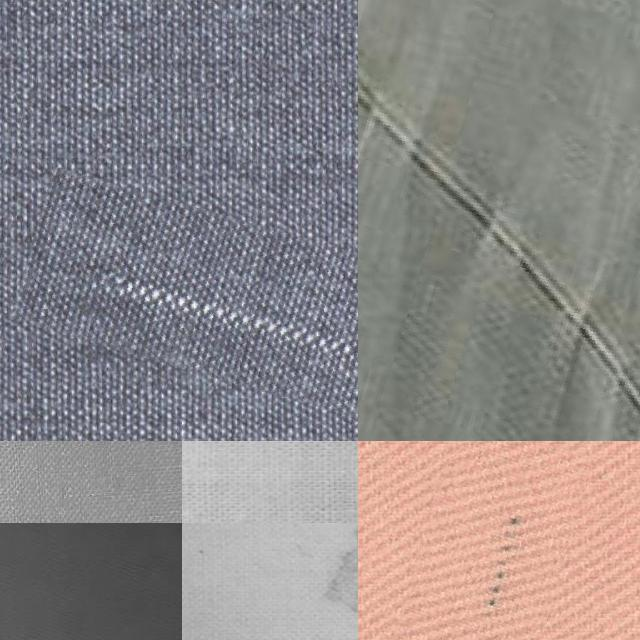Hole: (299, 523, 358, 640)
Thread_other: (358, 0, 640, 441), (16, 197, 358, 418), (405, 441, 578, 640)
